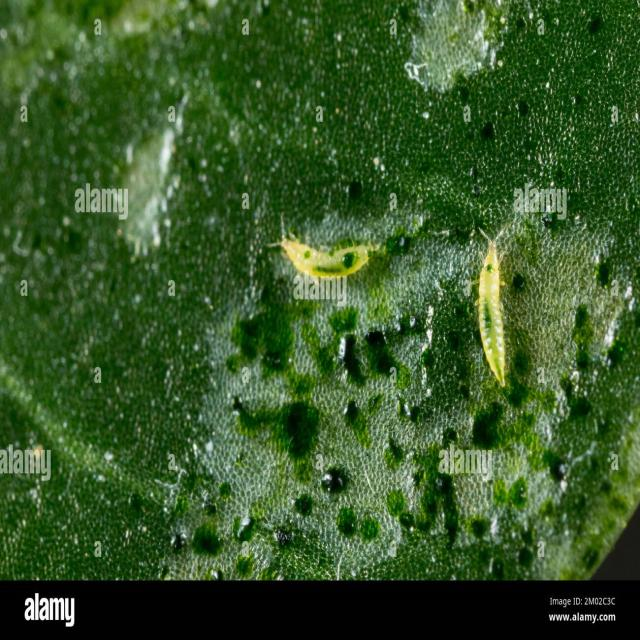Thrip-Larva-: (459, 210, 519, 394), (259, 208, 386, 277)
